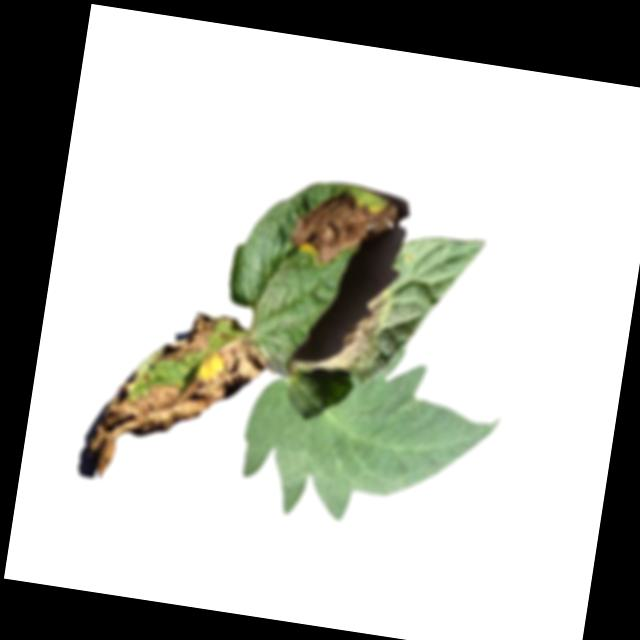Late_blight: (79, 297, 272, 499), (294, 261, 392, 379), (283, 184, 402, 275)
healthy: (233, 339, 507, 543)
